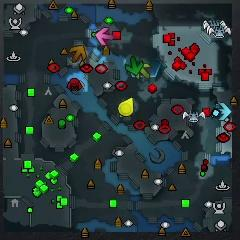p4: (118, 98, 134, 117)
x1: (95, 27, 113, 46)
x2: (136, 63, 152, 80)
x3: (215, 102, 232, 120)
x4: (125, 56, 143, 76)
x5: (70, 45, 86, 64)
